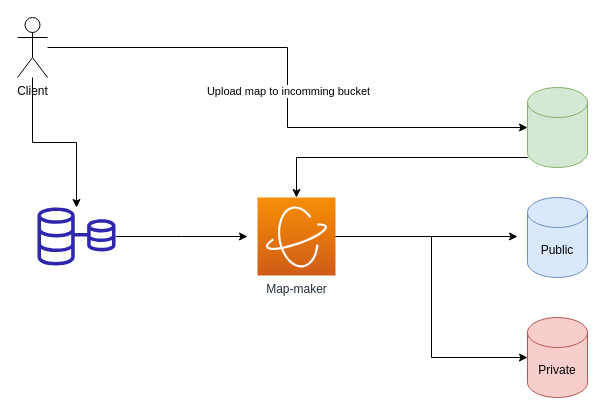
This 605x415 diagram has some shape labels left out. Here are the shapes that lost their labels. From the top down, the centre of each, then its label:
(x=557, y=127): Incomming
(x=76, y=236): Api
